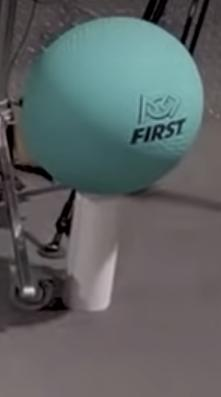algae: (23, 16, 205, 195)
coral: (62, 196, 122, 312)
